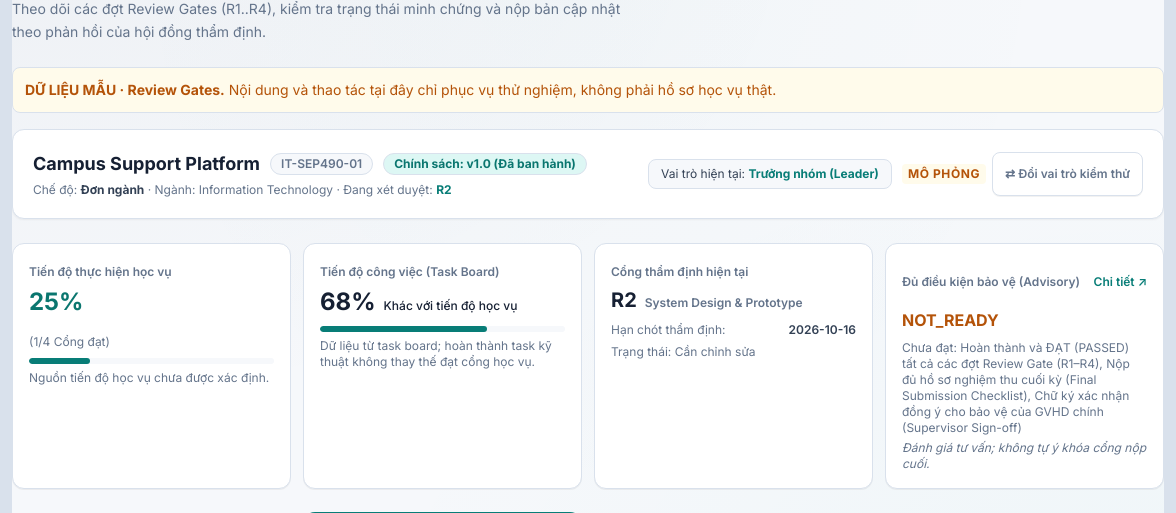
Scenario: StudentReviewTimelinePage (Cross-Role ST-01 & ST-02) › blocks member from submitting project-level gate review
The image size is (1176, 513).
Expected: the heading "Campus Support Platform" is shown, 33,150 -> 260,178
Note: Toggle role to member
Step 1. Click the button "⇄ Đổi vai trò kiểm thử" → (1068,174), box 992,152 -> 1143,196
(page scrolled)
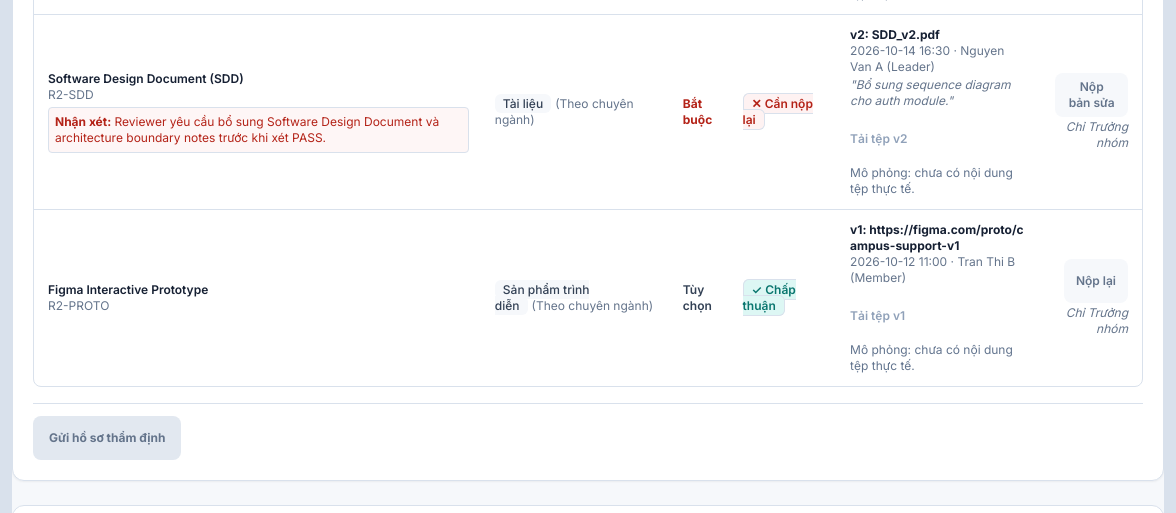
Expected: the button "Nộp bản sửa" is disabled, 1055,73 -> 1128,117
Expected: the button "Nộp lại" in the row of "Figma Interactive Prototype" is disabled, 1064,259 -> 1128,303
